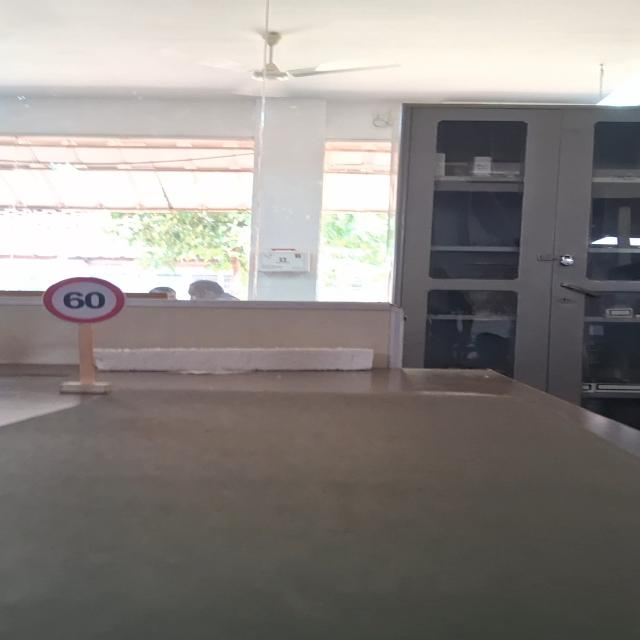Speed60: (42, 275, 127, 325)
